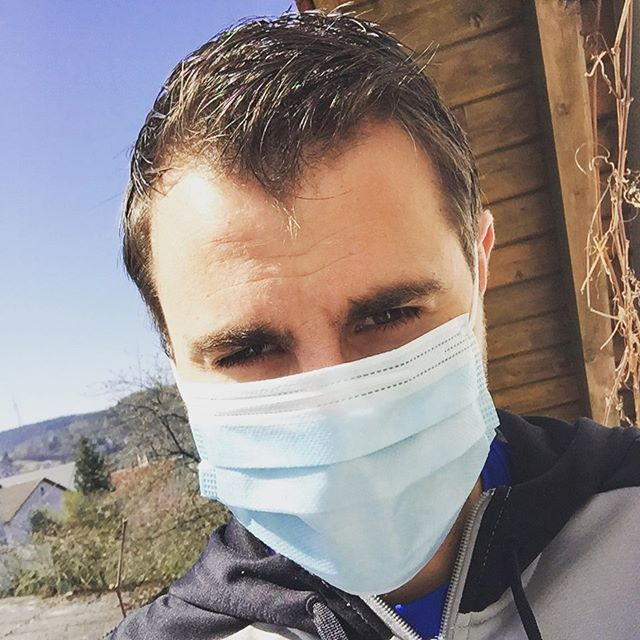surgical: (162, 306, 520, 601)
